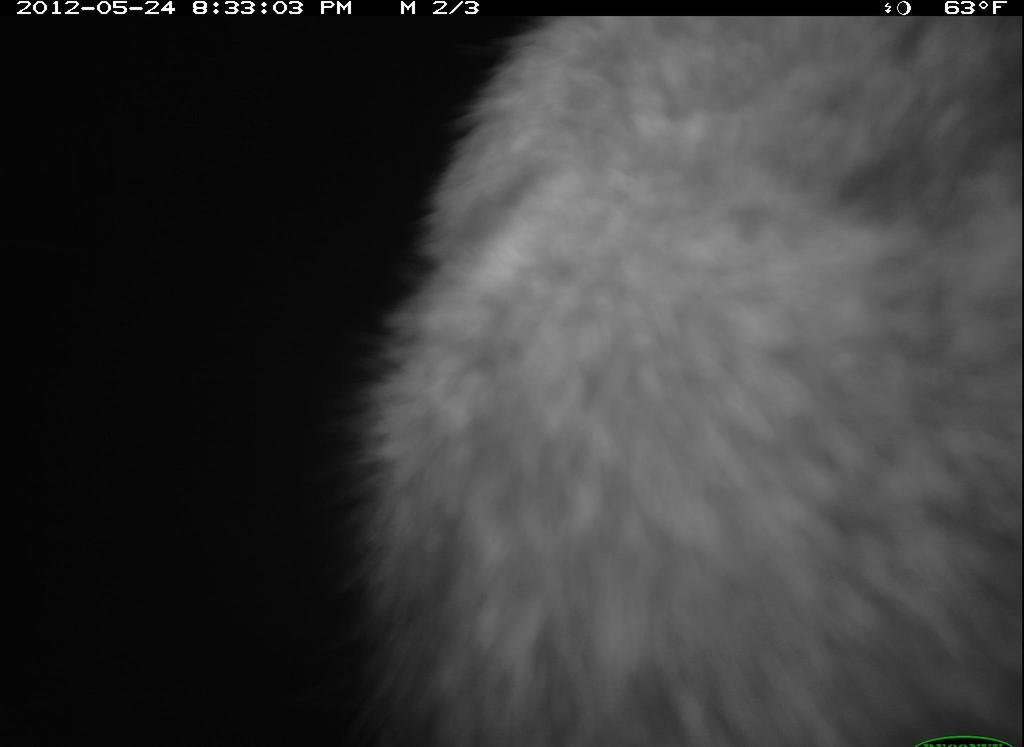raccoon: (335, 15, 1021, 747)
